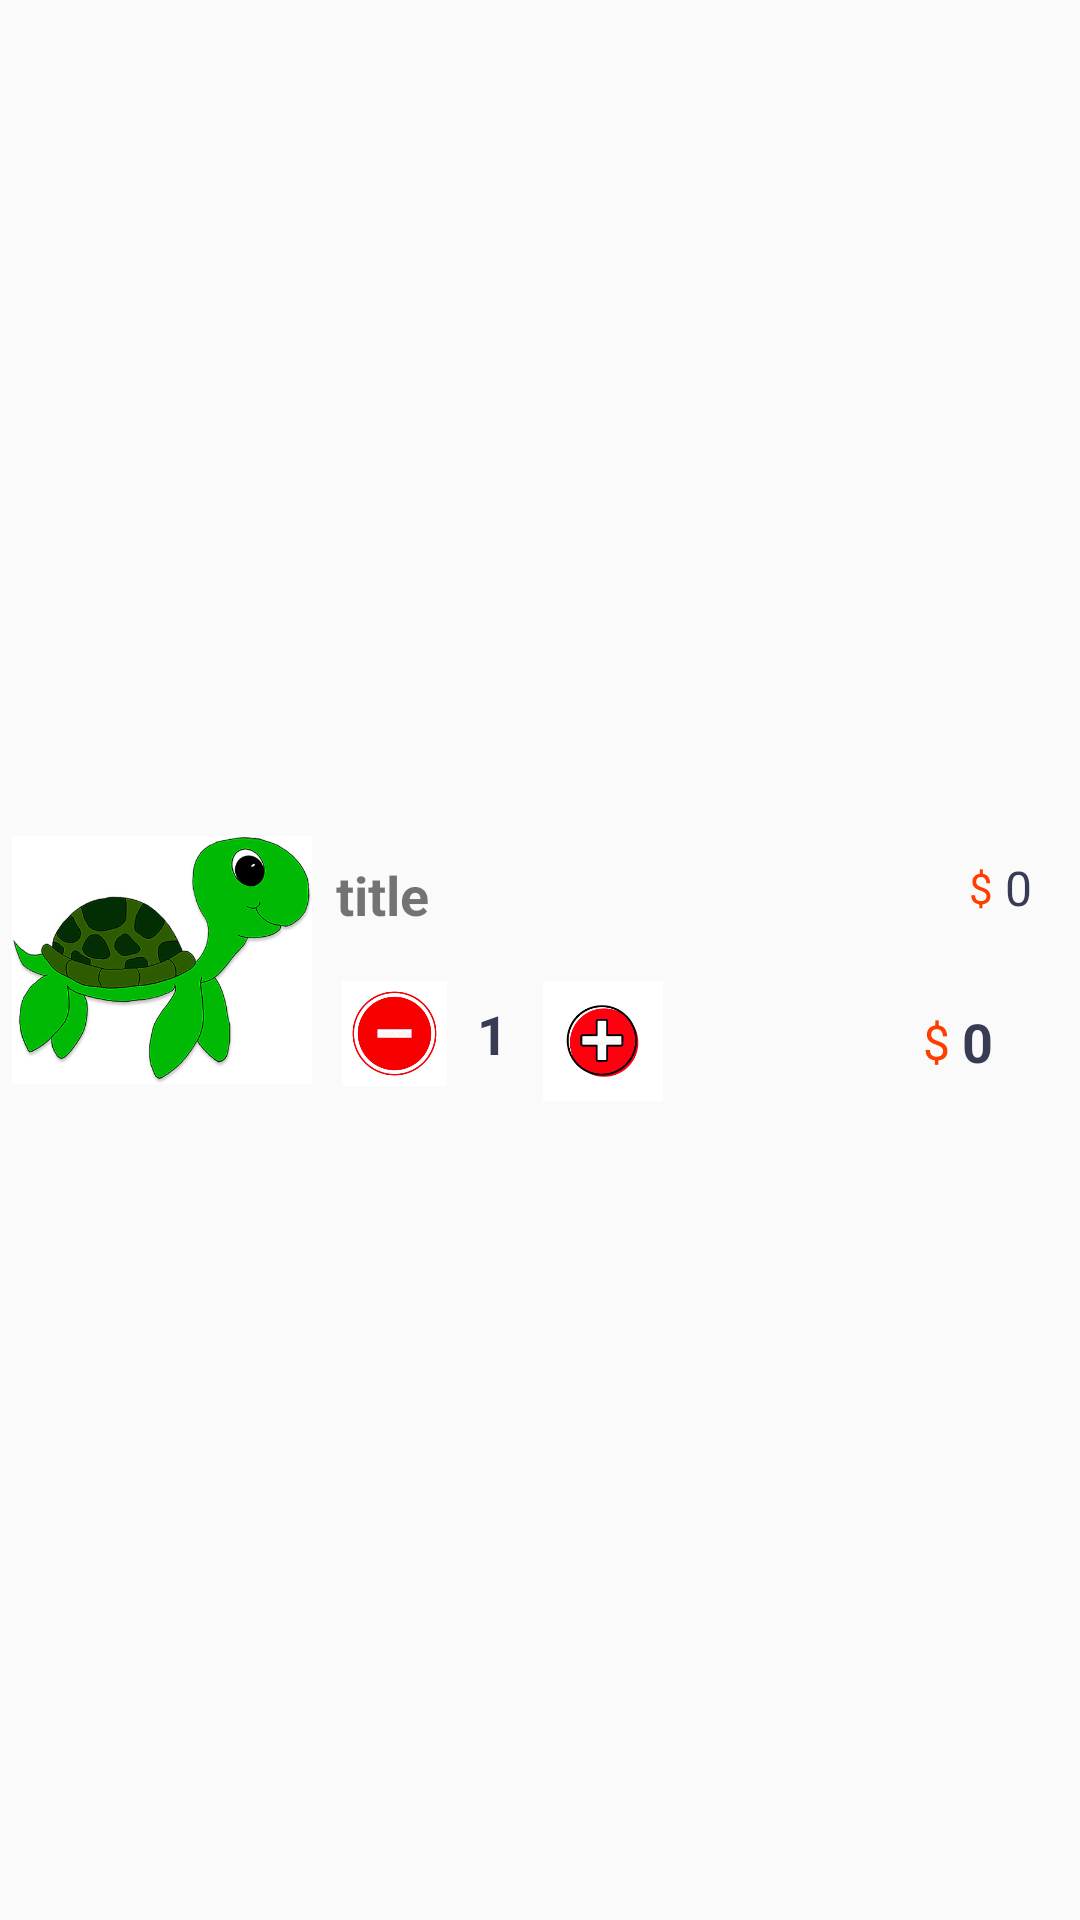

Where icons sit on this 1080 × 1920 app screen, as (x1, y1, x2, y2):
minus: (352, 991, 437, 1076)
plus: (566, 1005, 639, 1077)
sea turtle clipart: (13, 837, 310, 1081)
